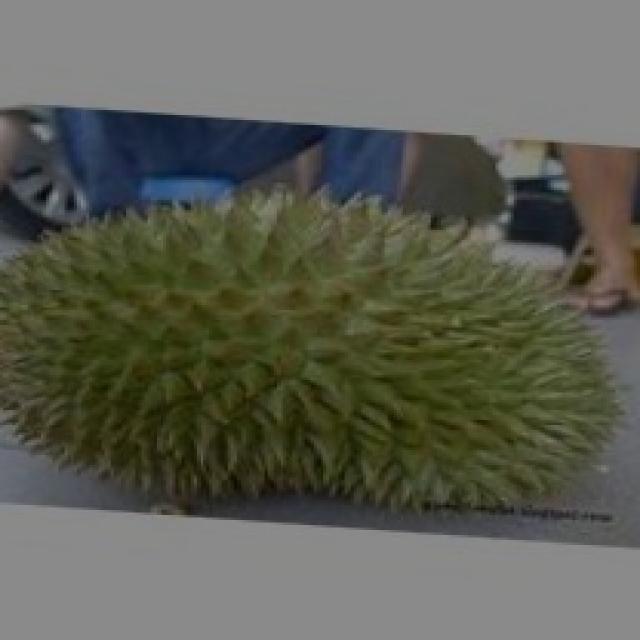fruit: (258, 175, 640, 543), (3, 158, 351, 512)
